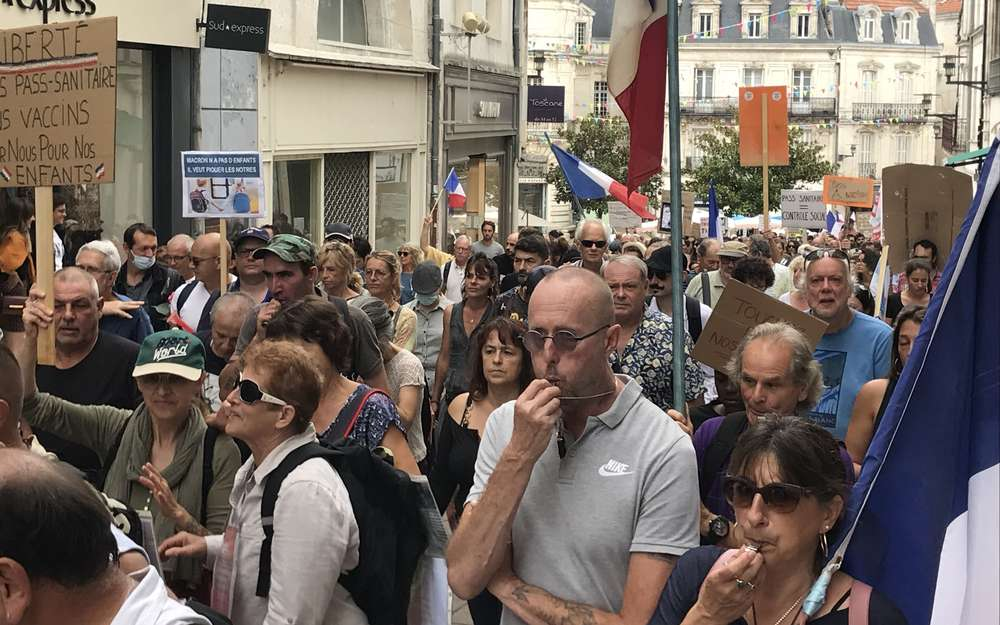with_incorrect_mask: (123, 237, 160, 274)
without_mask: (732, 466, 813, 572), (525, 297, 613, 394), (738, 355, 795, 431), (222, 378, 276, 438), (135, 367, 193, 419), (48, 289, 99, 343), (483, 339, 528, 390), (809, 261, 849, 317), (262, 257, 306, 307), (212, 307, 250, 354), (608, 270, 641, 319), (188, 241, 220, 287), (650, 259, 676, 300), (167, 241, 194, 279), (363, 261, 392, 295), (320, 259, 347, 294), (511, 250, 540, 282), (463, 268, 490, 296), (580, 231, 606, 259), (910, 274, 930, 297)
